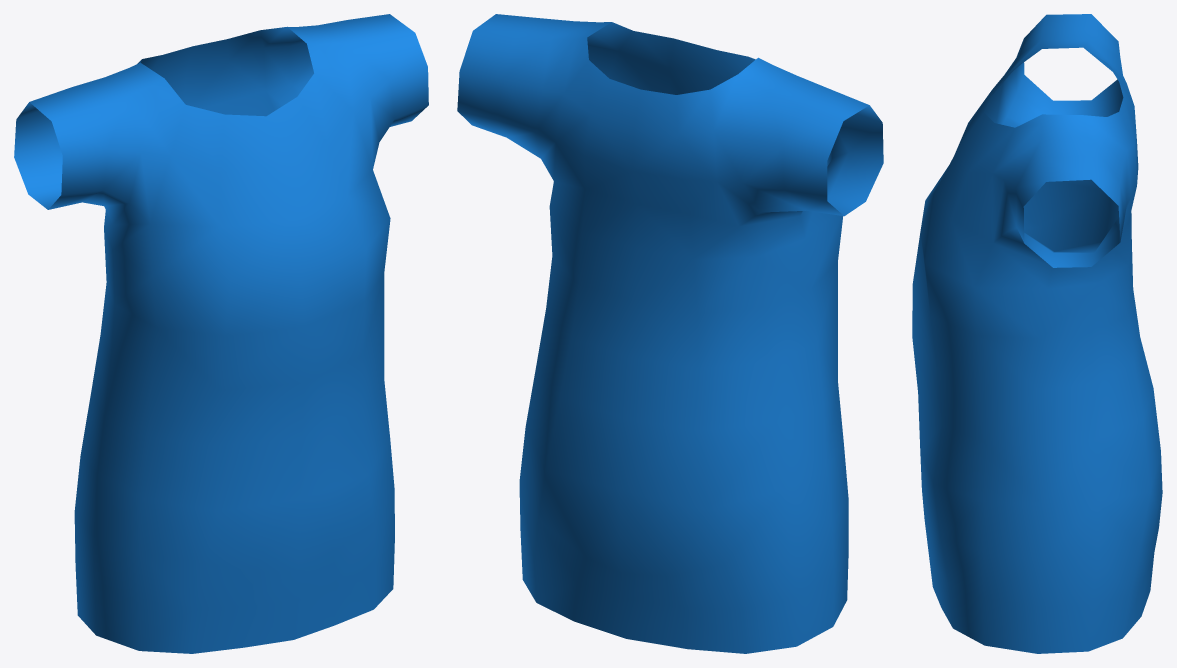
The model's file is Outerwear_Blue_015.glb.
3 views of the same model, side by side, from view 1: azimuth 30°, elevation 25°; view 2: azimuth 150°, elevation 25°; view 3: azimuth 270°, elevation 25° (orthographic). The views are drawn at different scales.
Parts seen in each view (by area): view 1: Outerwear_Blue_015; view 2: Outerwear_Blue_015; view 3: Outerwear_Blue_015.
Part boxes in pixels (<box>): Outerwear_Blue_015: <box>14,14,428,653</box>; Outerwear_Blue_015: <box>457,14,883,653</box>; Outerwear_Blue_015: <box>912,14,1162,653</box>.
Size of the model in its own units: 0.6011 by 0.8466 by 0.3763.
Materials: 1 (1 with a texture image).
